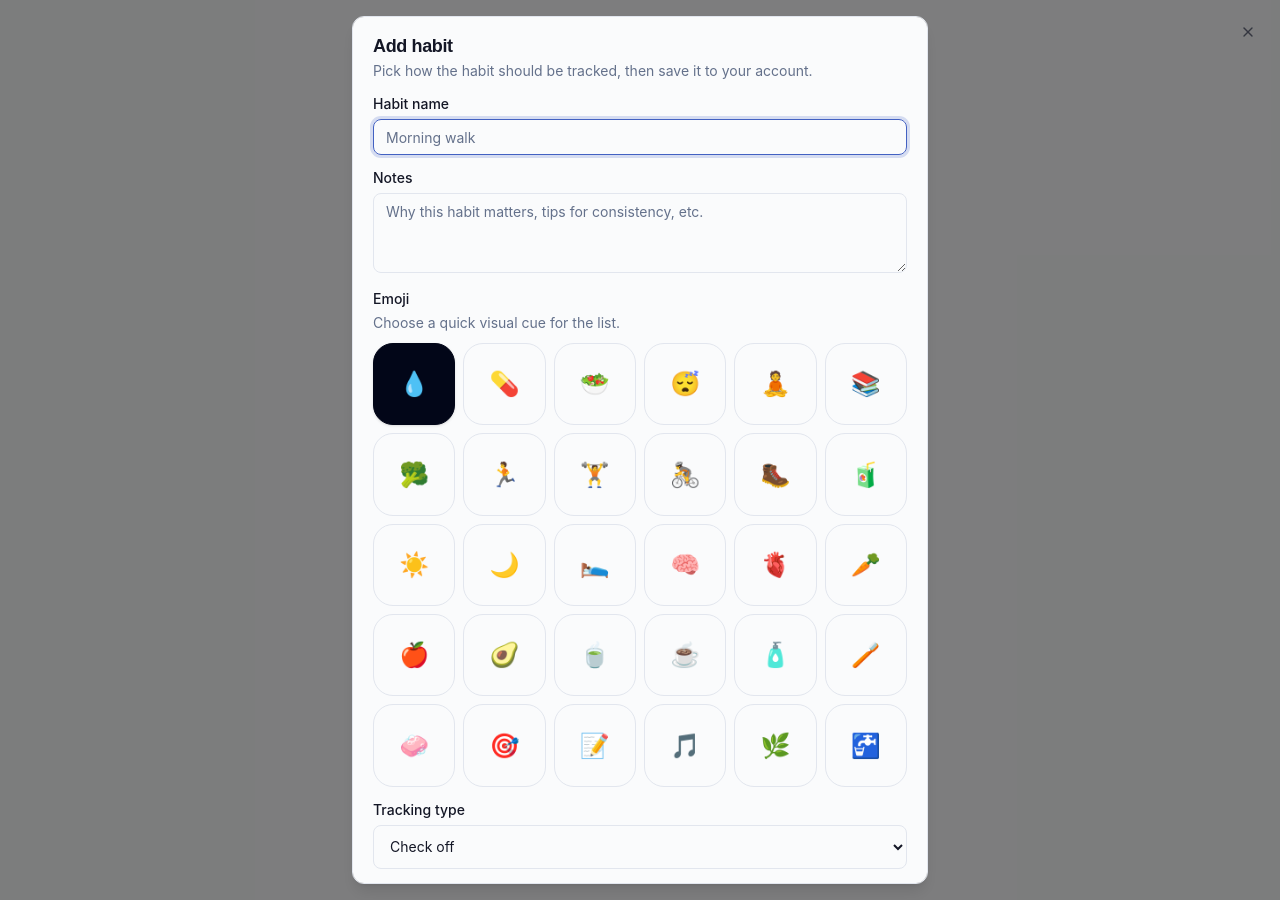
HabitFormDialog › validates required fields using zod schema rules
Step 1. Select "Count" in the dropdown labelled "Tracking type" → (640, 847), box [373,825,907,869]
(page scrolled)
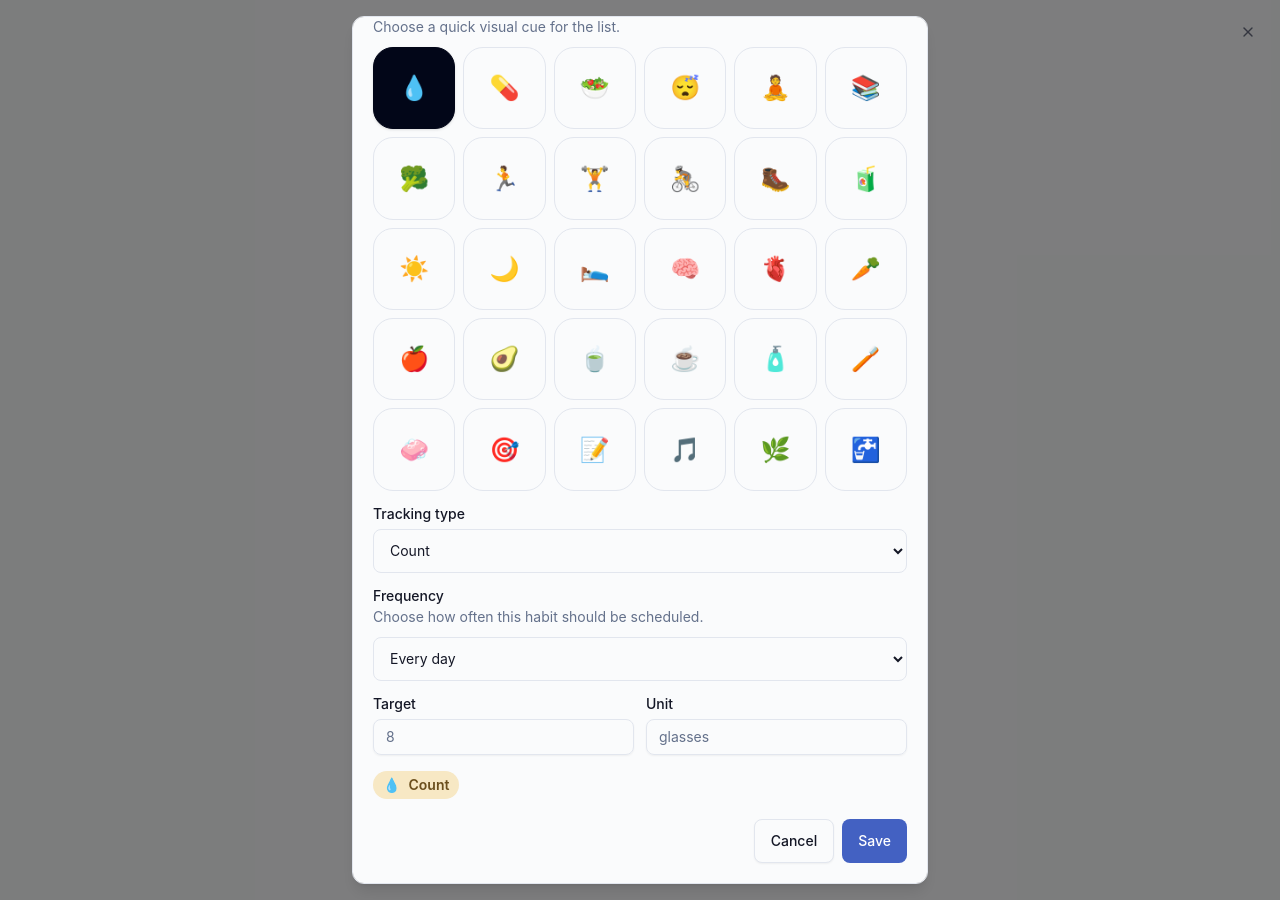
Step 2. Click the button "Save" → (875, 841), box [842,819,907,863]
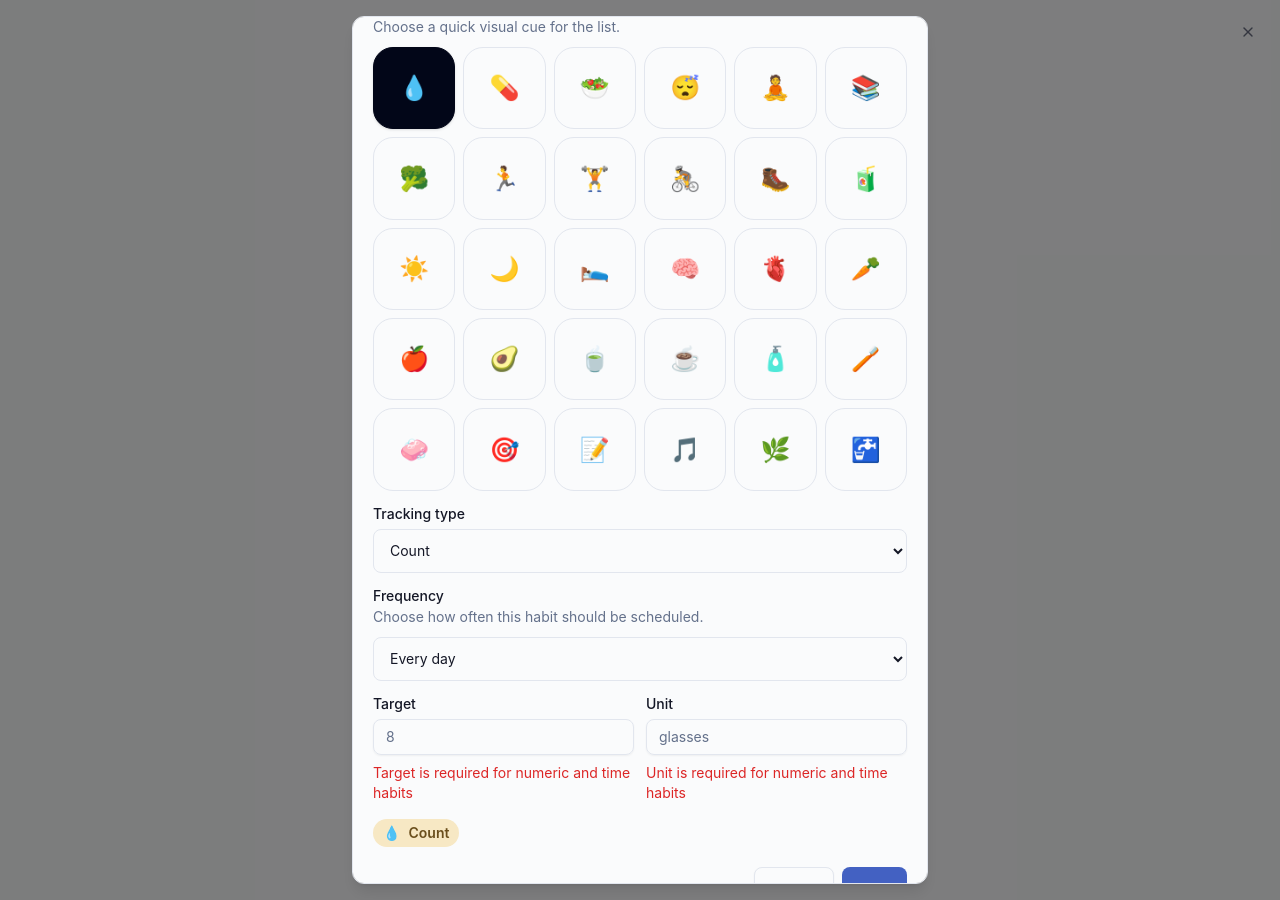
Result: the text "Target is required for numeric and time habits" is shown at [373,763,634,803]
Result: the text "Unit is required for numeric and time habits" is shown at [646,763,907,803]
